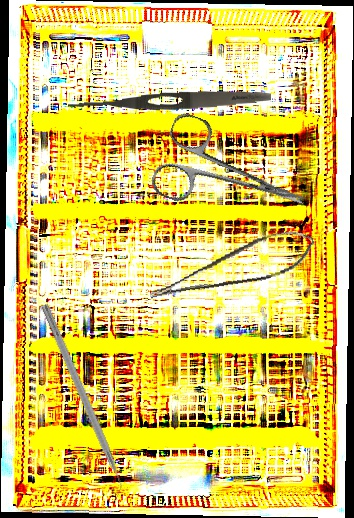Chopper: (29, 302, 132, 506)
Dressing Forceps: (67, 86, 272, 117)
Iris Scissors: (147, 109, 319, 245)
Micro Scissor: (142, 224, 320, 305)
